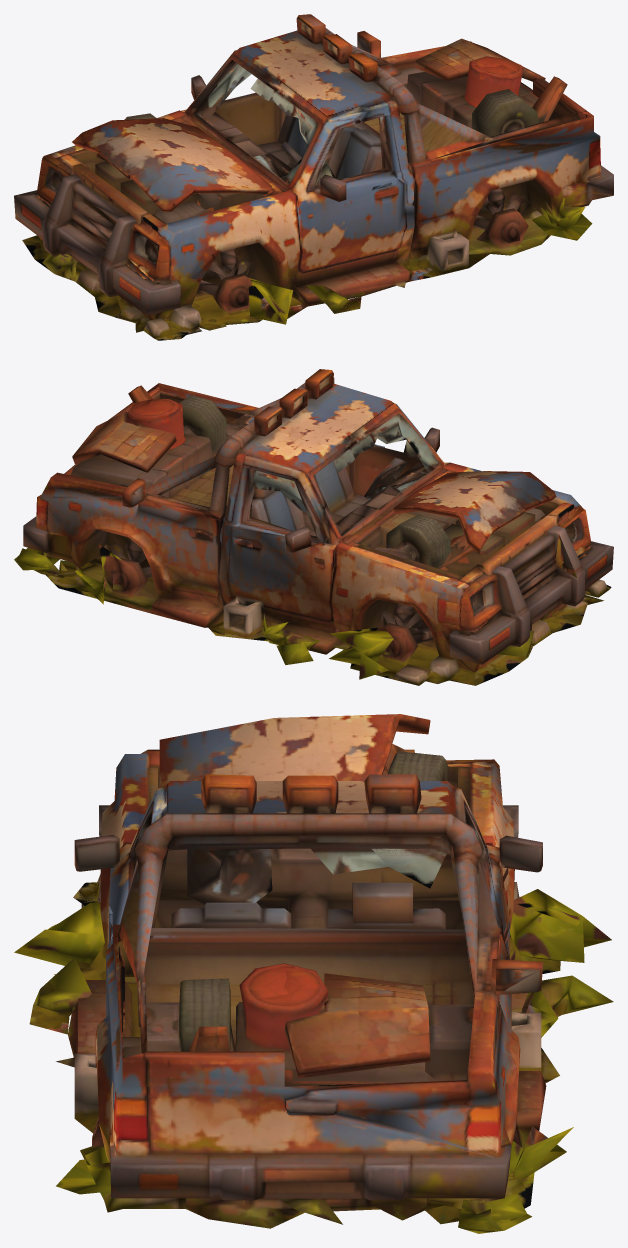
File: tripo_convert_6766fb7e-0d14-45bb-9411-d8d3ede9d709.fbx
3 views of the same model, one above another, from view 1: azimuth 30°, elevation 25°; view 2: azimuth 150°, elevation 25°; view 3: azimuth 270°, elevation 25° (orthographic). The views are drawn at different scales.
Parts seen in each view (by area): view 1: tripo_node_6766fb7e; view 2: tripo_node_6766fb7e; view 3: tripo_node_6766fb7e.
Part boxes in pixels (<box>): tripo_node_6766fb7e: <box>14,14,613,340</box>; tripo_node_6766fb7e: <box>14,369,613,685</box>; tripo_node_6766fb7e: <box>14,714,613,1233</box>.
Size of the model in its own units: 0.9786 by 0.3658 by 0.6626.
1 material, 1 textured.
